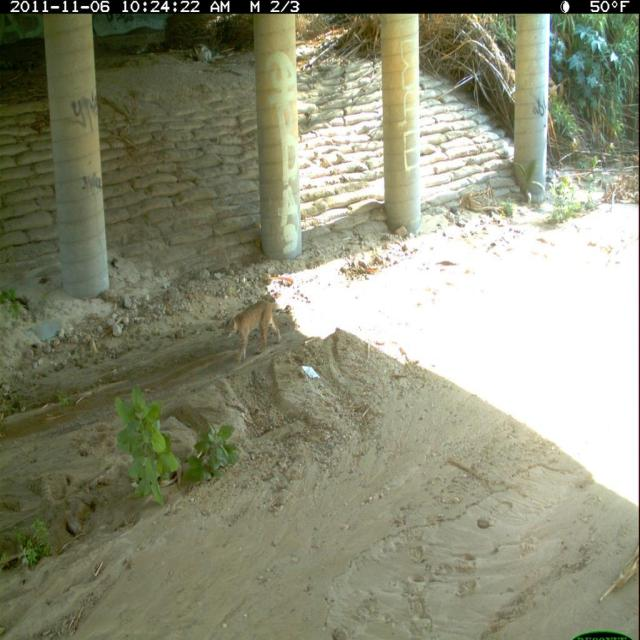bobcat: (222, 296, 286, 370)
